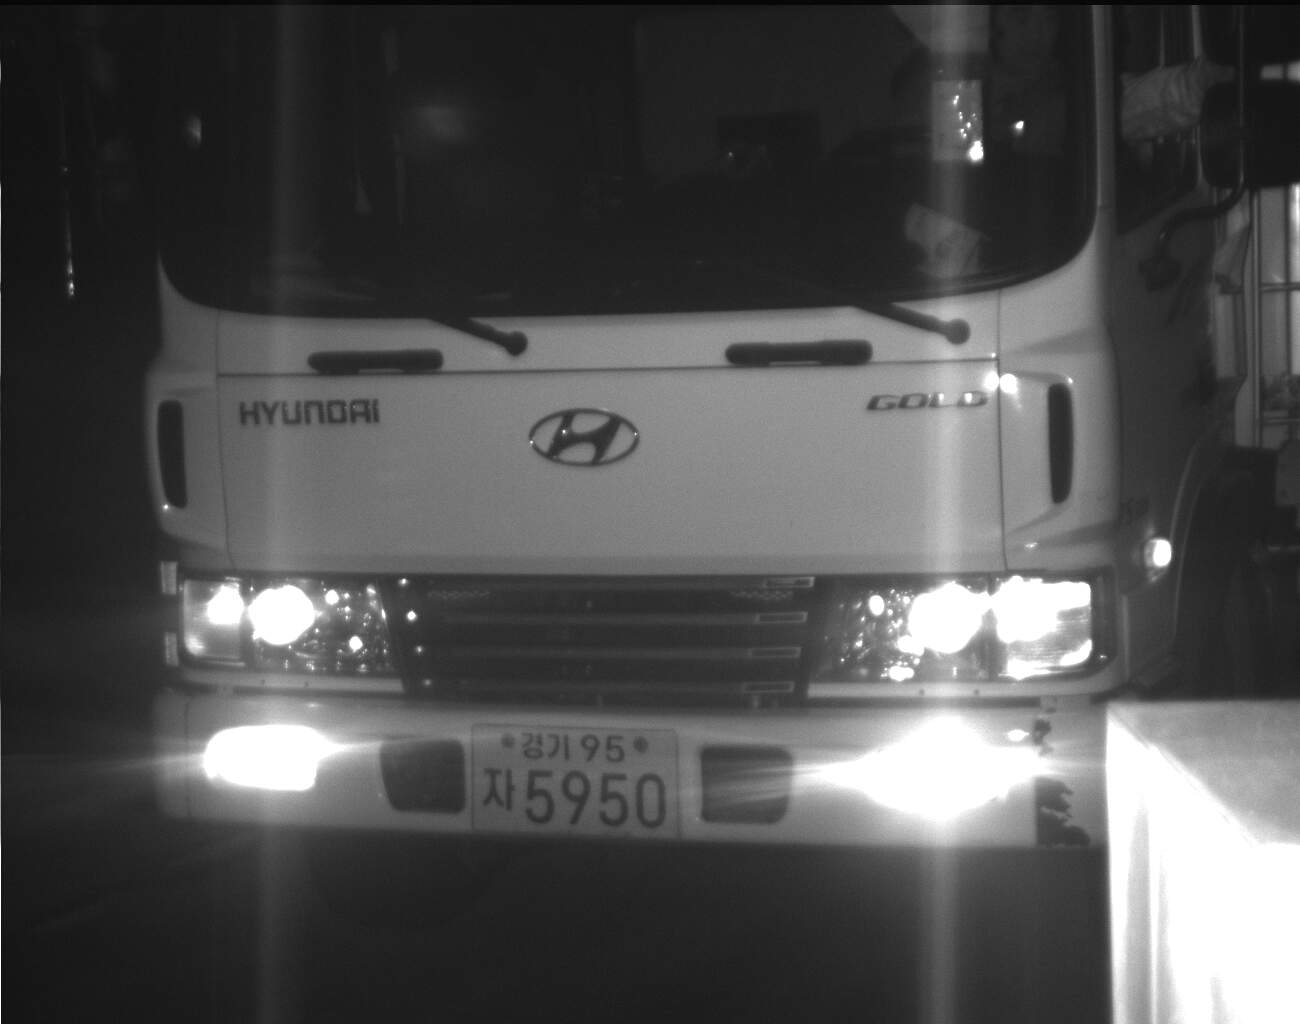car: (39, 1, 1300, 878)
plate: (464, 720, 682, 840)
